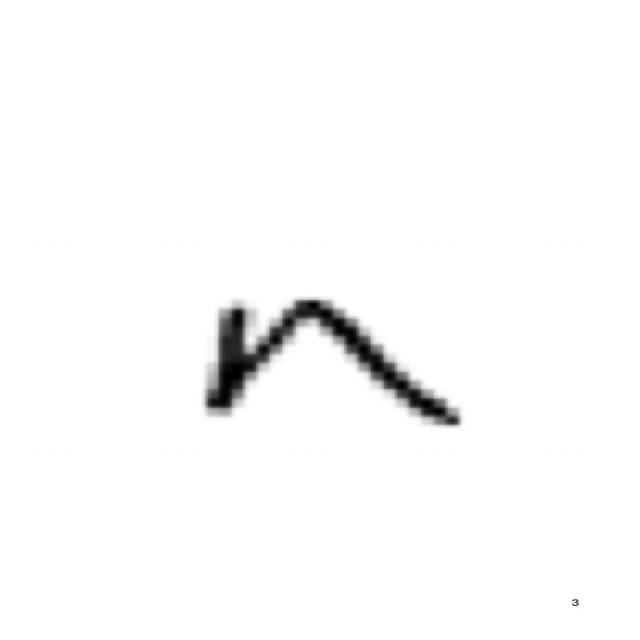8 -eight-: (186, 280, 490, 448)
